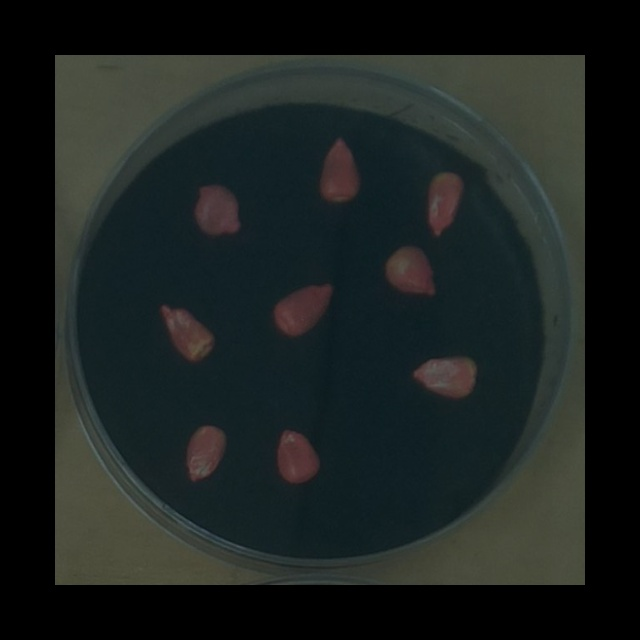Zea mays: (266, 271, 342, 345), (152, 296, 221, 369), (311, 129, 367, 208), (406, 348, 483, 405), (187, 177, 251, 244), (420, 162, 472, 242), (268, 420, 328, 488), (379, 239, 442, 301), (179, 416, 234, 486)
